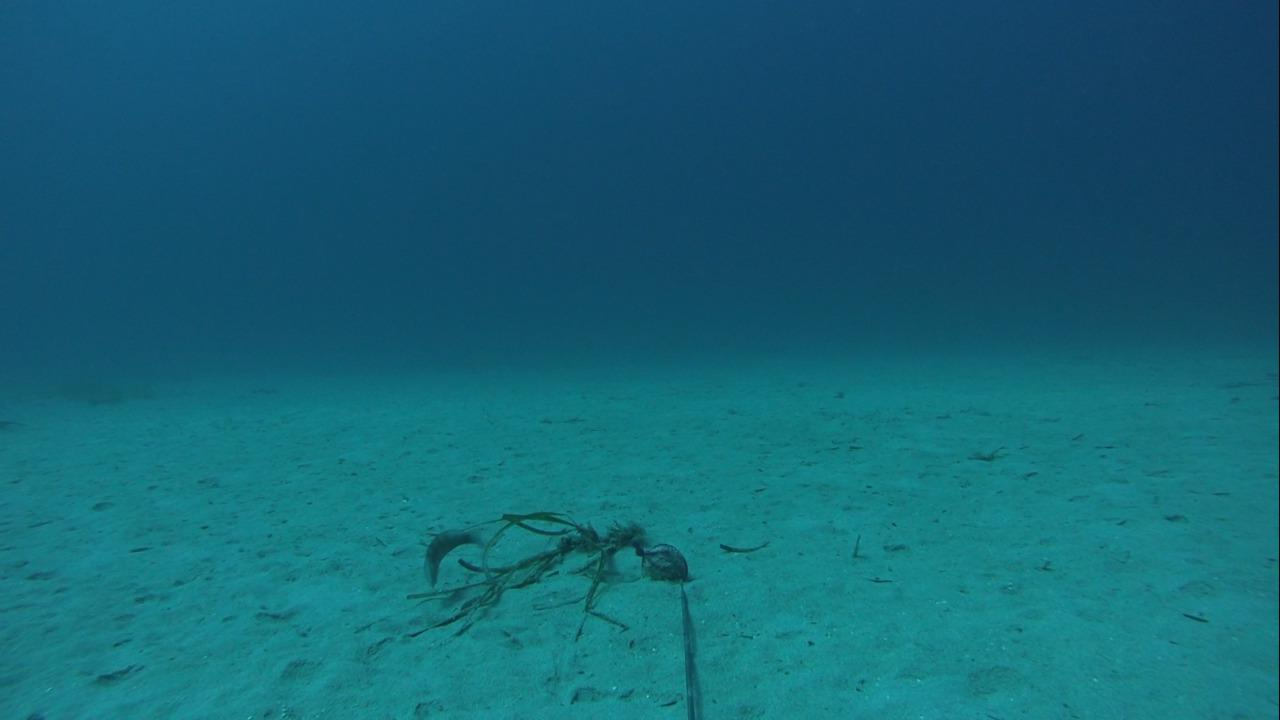raor: (420, 524, 491, 588)
